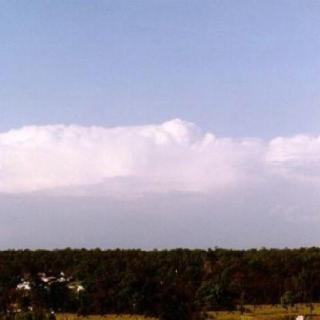Stratocumulus: (0, 8, 320, 250)
